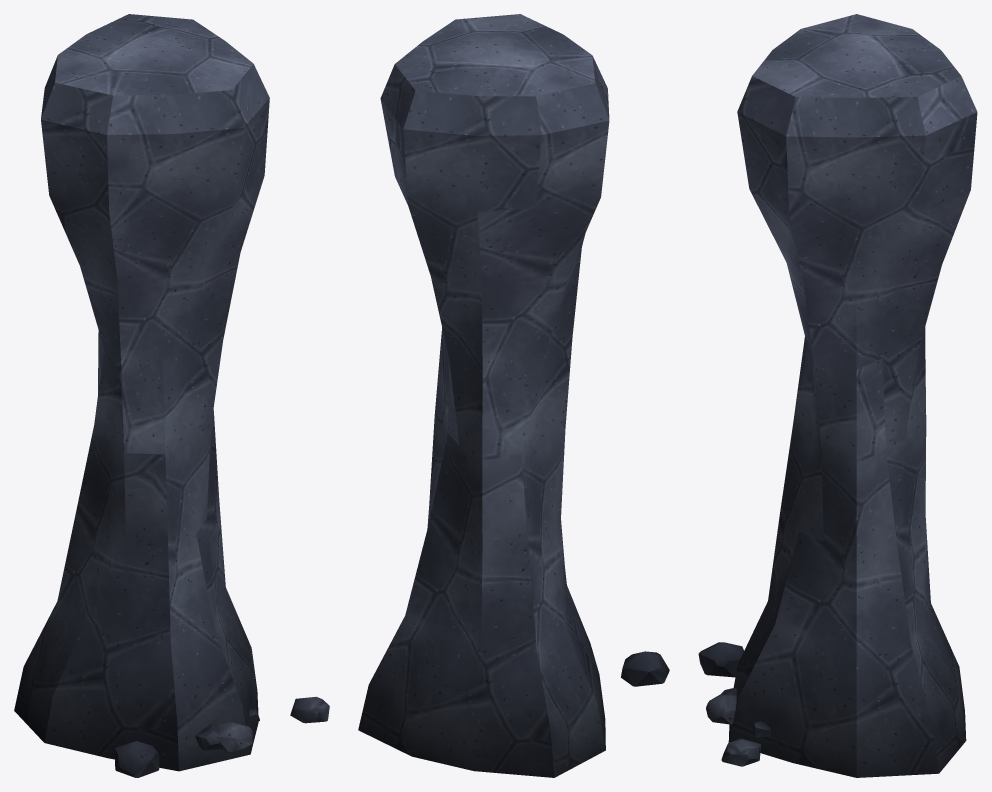
Rendered from cave_pillar.glb.
The picture shows the model from 3 angles, left to right: view 1: azimuth 30°, elevation 25°; view 2: azimuth 150°, elevation 25°; view 3: azimuth 270°, elevation 25°; orthographic projection.
Visible parts, largest first — view 1: cave_pillar; view 2: cave_pillar; view 3: cave_pillar.
Boxes of the visible parts, <box> form: cave_pillar: <box>14,14,329,777</box>; cave_pillar: <box>358,14,669,777</box>; cave_pillar: <box>698,14,977,777</box>.
Size of the model in its own units: 1.08 by 3 by 1.12.
1 material, 1 textured.
